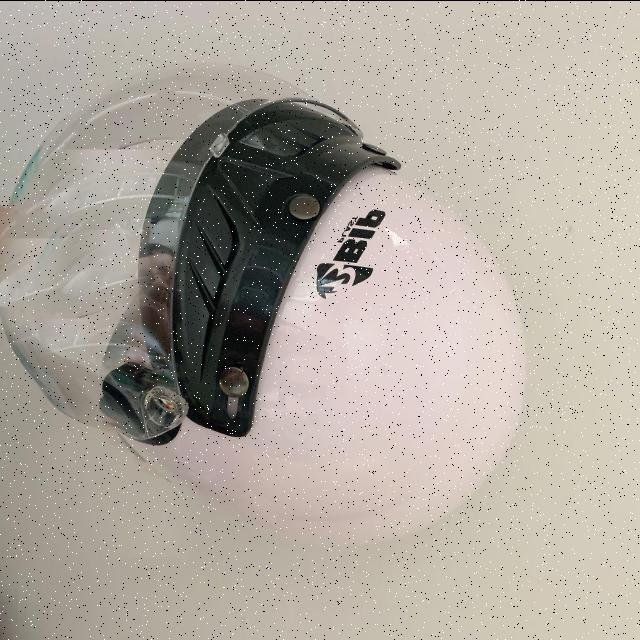Helmet: (0, 88, 526, 548)
